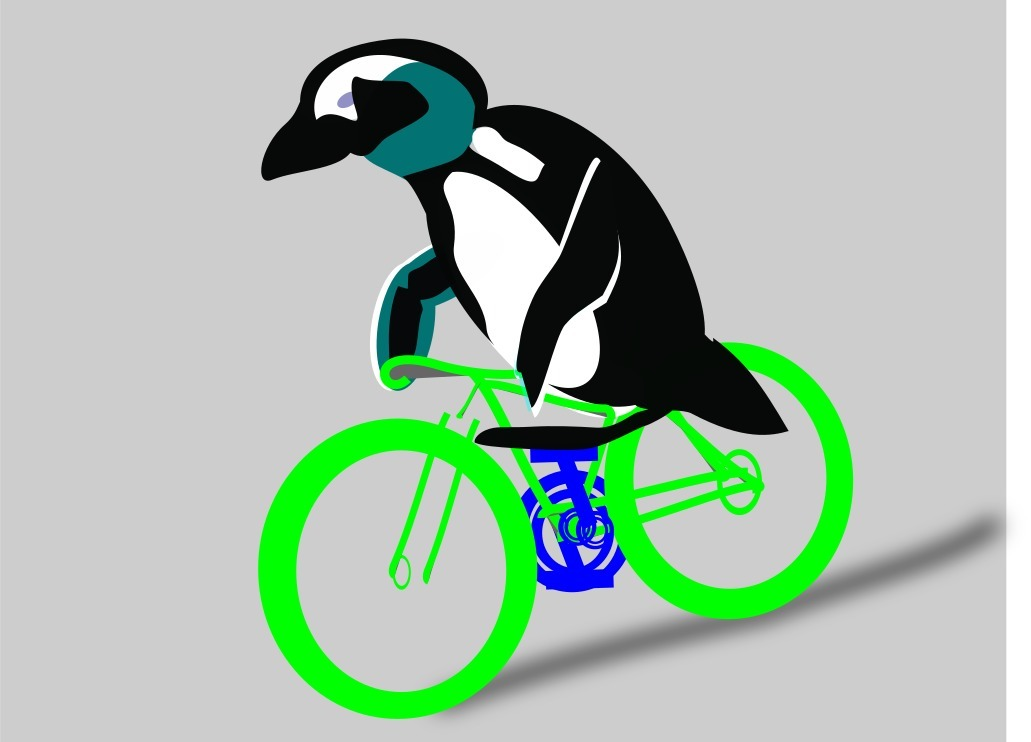bicycle: (249, 331, 863, 714)
bird: (249, 27, 785, 446)
